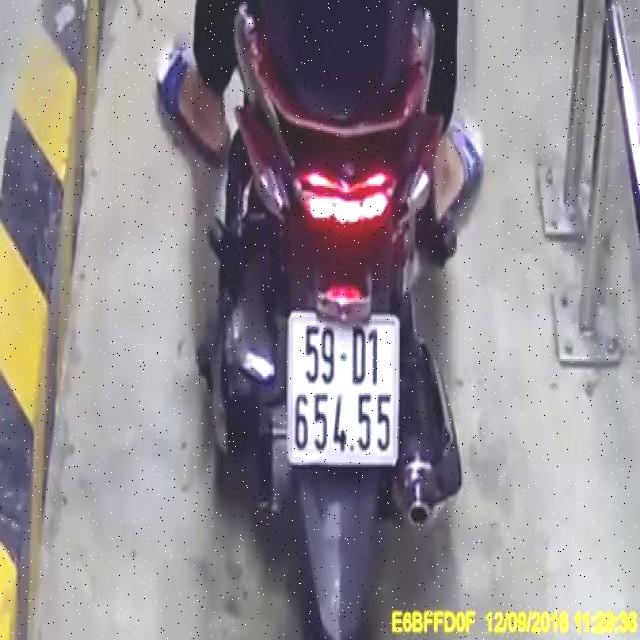1: (366, 327, 380, 389)
4: (333, 392, 348, 450)
5: (303, 320, 321, 386), (313, 391, 329, 455), (375, 391, 392, 451), (357, 391, 372, 455)
6: (294, 386, 312, 451)
9: (319, 323, 337, 385)
D: (352, 318, 367, 385)
